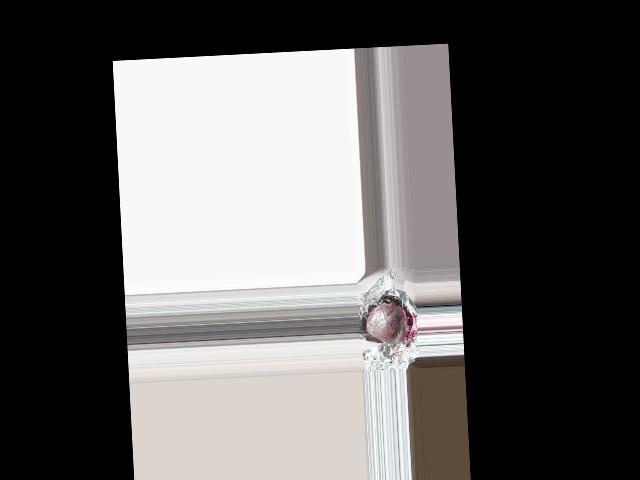beet: (365, 302, 406, 346)
